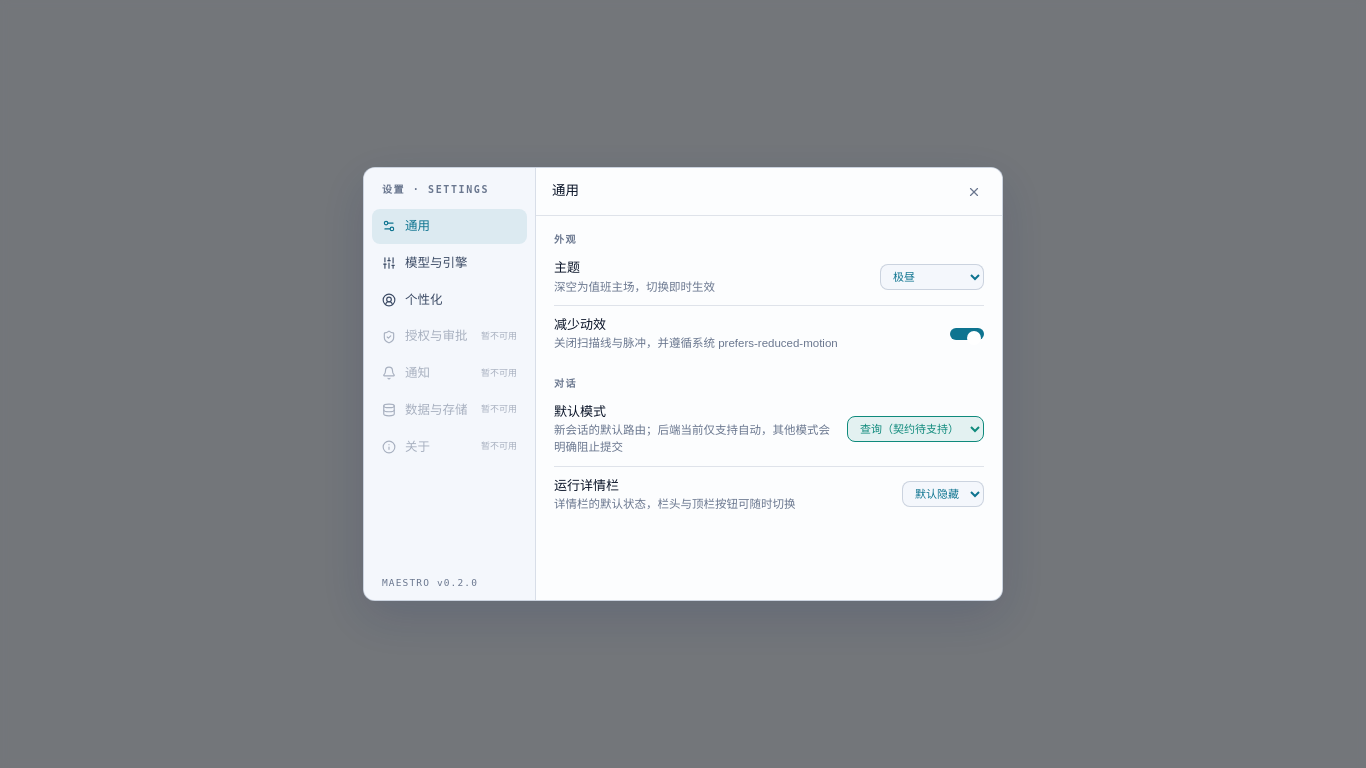
Test: SettingsModal › opens the model panel, which owns its own server state
The width and height of the screenshot is (1366, 768).
Click the button "模型与引擎" at (450, 263), box [372,246,527,281]
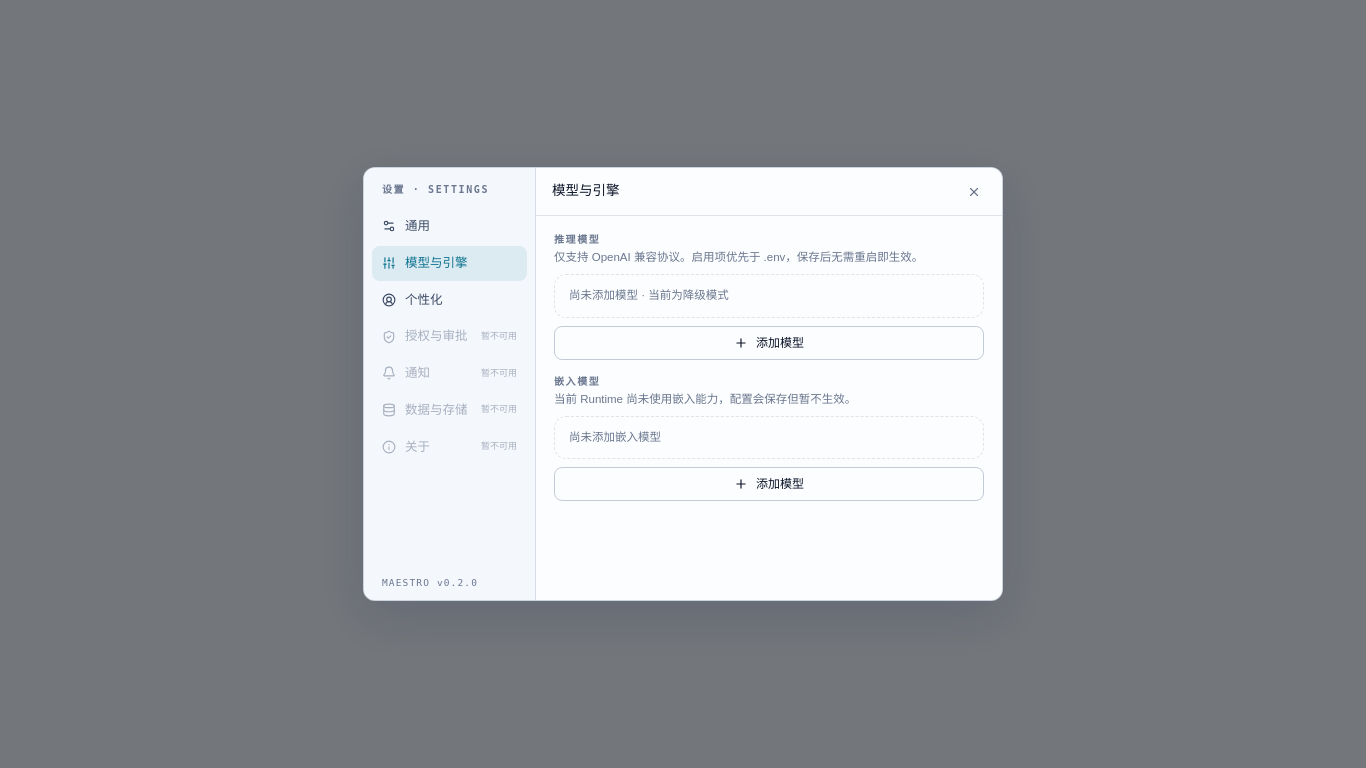
Expected: the heading "推理模型" is shown, [554,234,600,245]
